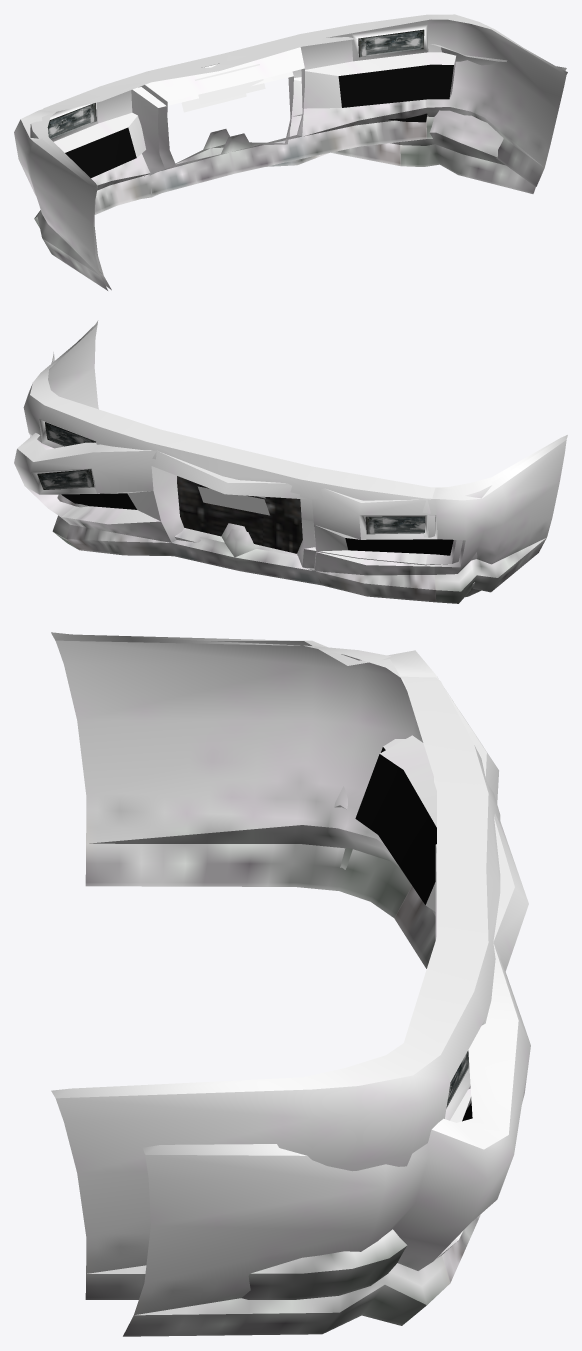
File: fbmp_c_st.glb
The picture shows the model from 3 angles, top to bottom: view 1: azimuth 30°, elevation 25°; view 2: azimuth 150°, elevation 25°; view 3: azimuth 270°, elevation 25°; orthographic projection. The views are drawn at different scales.
Parts seen in each view (by area): view 1: fbmp_c_st, fbmp_c_st_dam; view 2: fbmp_c_st_dam, fbmp_c_st; view 3: fbmp_c_st, fbmp_c_st_dam.
Boxes of the visible parts, box(x1,y1,x2,y2) form: fbmp_c_st: box(30, 14, 567, 290); fbmp_c_st_dam: box(14, 37, 566, 290); fbmp_c_st_dam: box(14, 352, 567, 603); fbmp_c_st: box(23, 320, 566, 597); fbmp_c_st: box(51, 632, 500, 1299); fbmp_c_st_dam: box(52, 634, 530, 1336).
Bounding box in the file's own units: 2.22 × 0.6258 × 0.9333.
4 materials, 4 textured.
